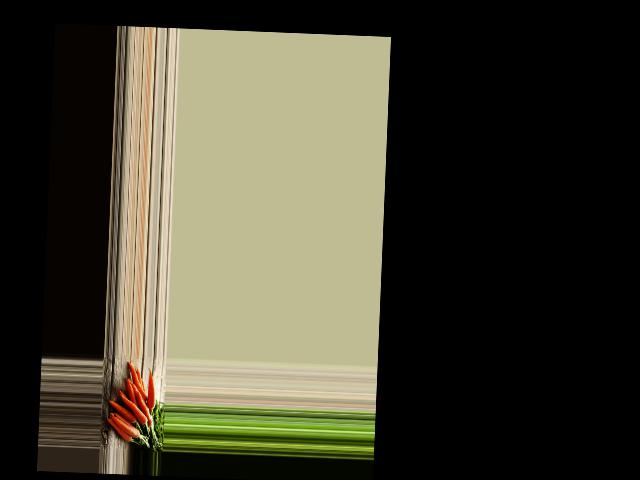carrot: (145, 370, 159, 408)
